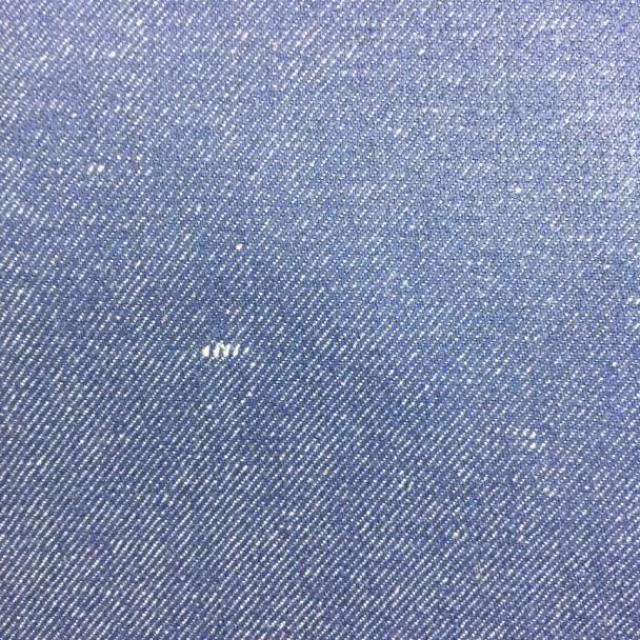Knot: (201, 341, 249, 359)
